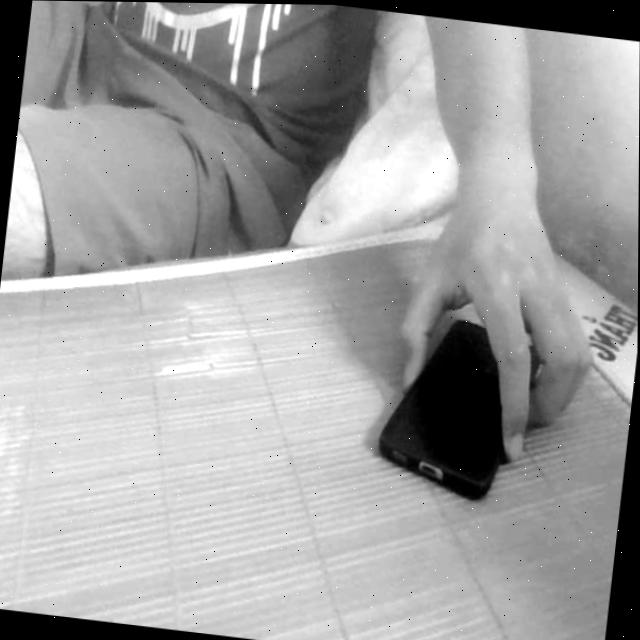phone: (358, 281, 553, 524)
